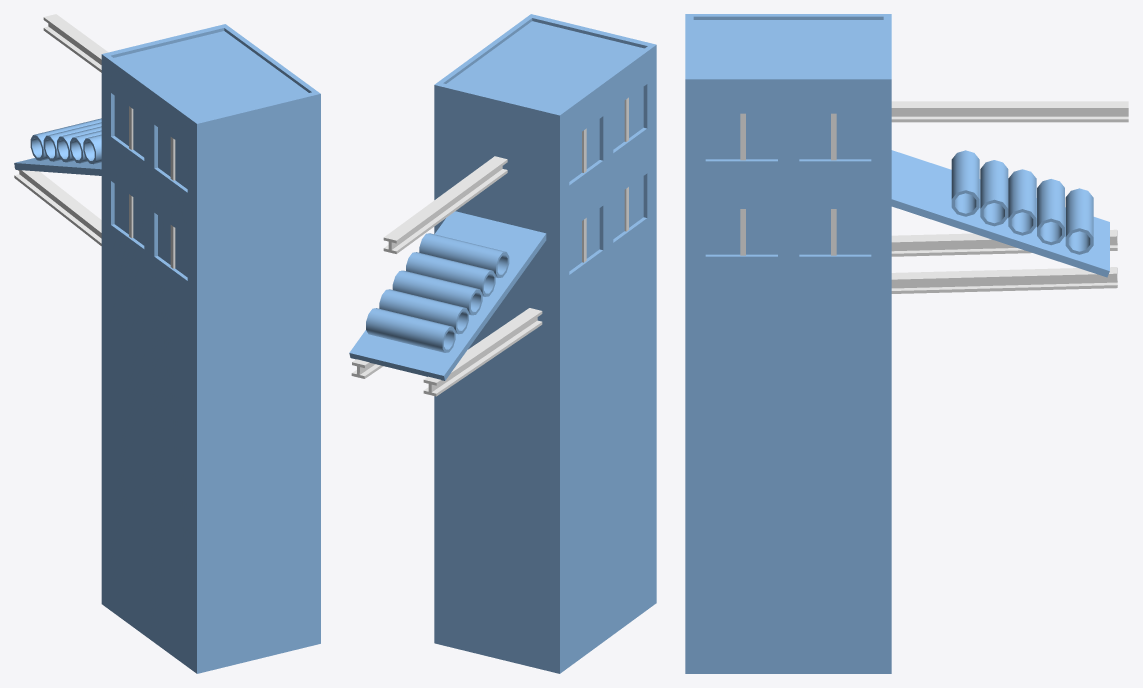
File: Trap01.fbx
3 renders of one model, left to right at view 1: azimuth 30°, elevation 25°; view 2: azimuth 150°, elevation 25°; view 3: azimuth 270°, elevation 25°, orthographic. The views are drawn at different scales.
Parts seen in each view (by area): view 1: House04, metal_beam, metal_beam__2_, Cube, RollingLog, RollingLog__1_, RollingLog__3_, RollingLog__4_; view 2: House04, Cube, metal_beam__2_, metal_beam, RollingLog, RollingLog__4_, RollingLog__3_, RollingLog__1_, RollingLog__2_; view 3: House04, Cube, metal_beam__2_, metal_beam__3_, metal_beam, RollingLog, RollingLog__4_, RollingLog__3_, RollingLog__2_, RollingLog__1_.
Part boxes in pixels (x1=…): House04: x1=101, y1=24, x2=320, y2=673; metal_beam: x1=14, y1=167, x2=101, y2=245; metal_beam__2_: x1=43, y1=14, x2=108, y2=72; Cube: x1=14, y1=158, x2=101, y2=175; RollingLog: x1=30, y1=118, x2=101, y2=160; RollingLog__1_: x1=43, y1=122, x2=101, y2=161; RollingLog__3_: x1=57, y1=126, x2=101, y2=162; RollingLog__4_: x1=83, y1=134, x2=101, y2=164; House04: x1=434, y1=14, x2=656, y2=673; Cube: x1=349, y1=211, x2=546, y2=380; metal_beam__2_: x1=383, y1=156, x2=507, y2=253; metal_beam: x1=423, y1=308, x2=542, y2=396; RollingLog: x1=366, y1=308, x2=455, y2=352; RollingLog__4_: x1=419, y1=233, x2=509, y2=277; RollingLog__3_: x1=392, y1=270, x2=482, y2=315; RollingLog__1_: x1=379, y1=289, x2=468, y2=334; RollingLog__2_: x1=406, y1=252, x2=495, y2=296; House04: x1=685, y1=14, x2=891, y2=673; Cube: x1=891, y1=150, x2=1109, y2=277; metal_beam__2_: x1=891, y1=101, x2=1128, y2=122; metal_beam__3_: x1=891, y1=267, x2=1117, y2=293; metal_beam: x1=891, y1=229, x2=1117, y2=256; RollingLog: x1=1065, y1=188, x2=1093, y2=254; RollingLog__4_: x1=951, y1=150, x2=979, y2=216; RollingLog__3_: x1=1008, y1=169, x2=1036, y2=235; RollingLog__2_: x1=980, y1=160, x2=1008, y2=226; RollingLog__1_: x1=1037, y1=179, x2=1064, y2=245.
Size of the model in its own units: 615 by 2612 by 1764.
